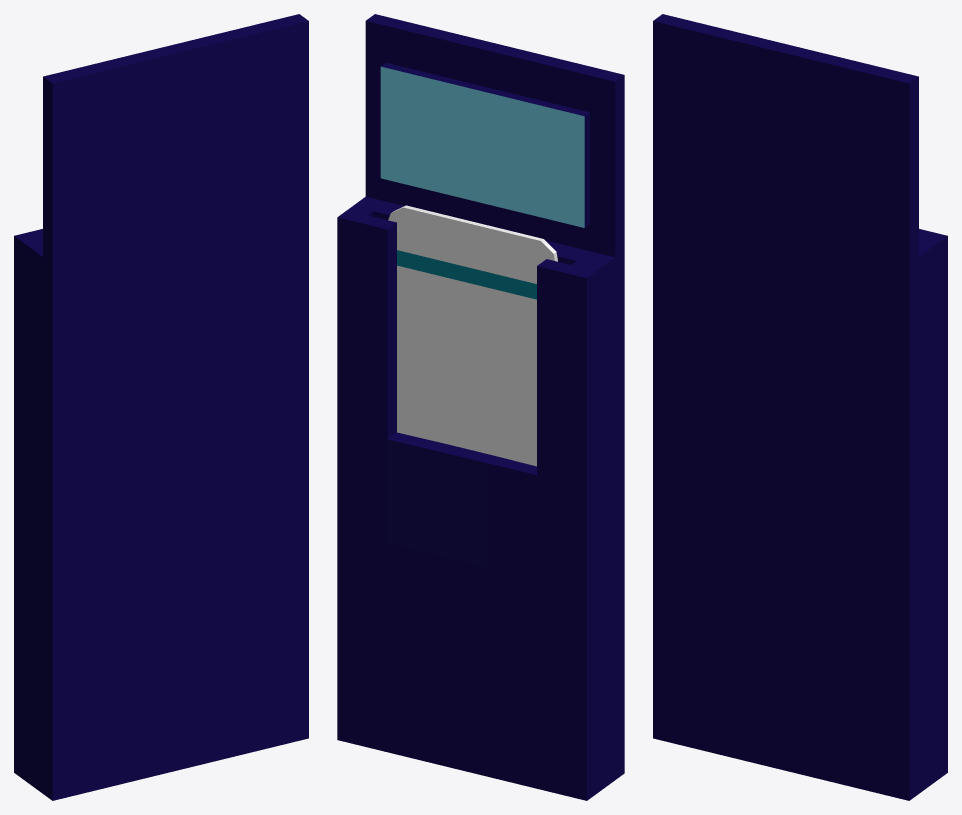
File: lector de tarjetas.fbx
3 views of the same model, side by side, from view 1: azimuth 30°, elevation 25°; view 2: azimuth 150°, elevation 25°; view 3: azimuth 330°, elevation 25° (orthographic). The views are drawn at different scales.
Parts seen in each view (by area): view 1: lector; view 2: lector, tarjeta; view 3: lector.
Boxes of the visible parts, x1,y1,x2,y2 form: lector: (14, 14, 308, 800); lector: (337, 14, 624, 800); tarjeta: (388, 205, 557, 466); lector: (653, 14, 947, 800).
Size of the model in its own units: 2.25 by 6.03 by 0.5873.
